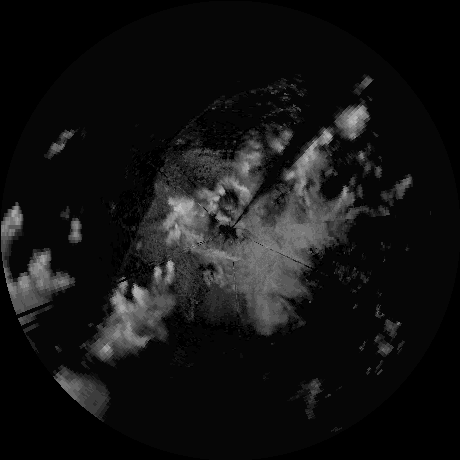frontgust: (172, 80, 302, 147)
